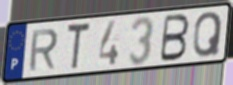3: (128, 12, 157, 68)
4: (97, 18, 120, 68)
B: (158, 13, 191, 63)
Q: (191, 10, 224, 59)
R: (27, 27, 60, 73)
T: (65, 21, 92, 72)
